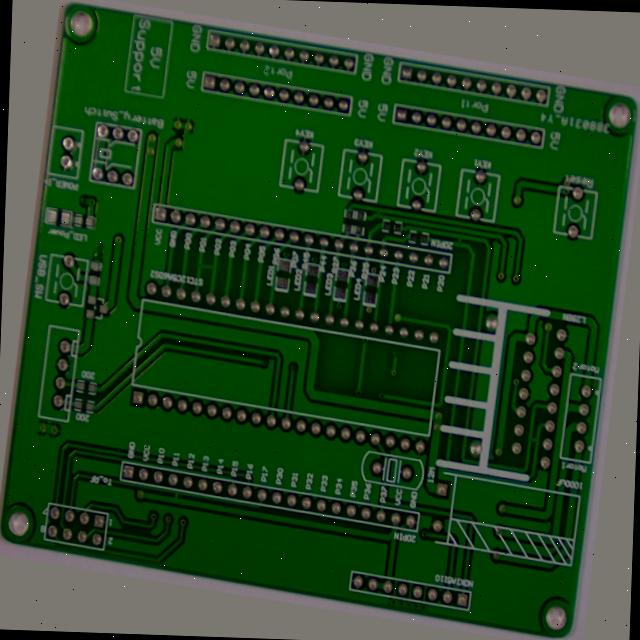short: (180, 266, 206, 284), (172, 526, 190, 549), (450, 201, 469, 221), (549, 410, 567, 431), (361, 181, 379, 200)
